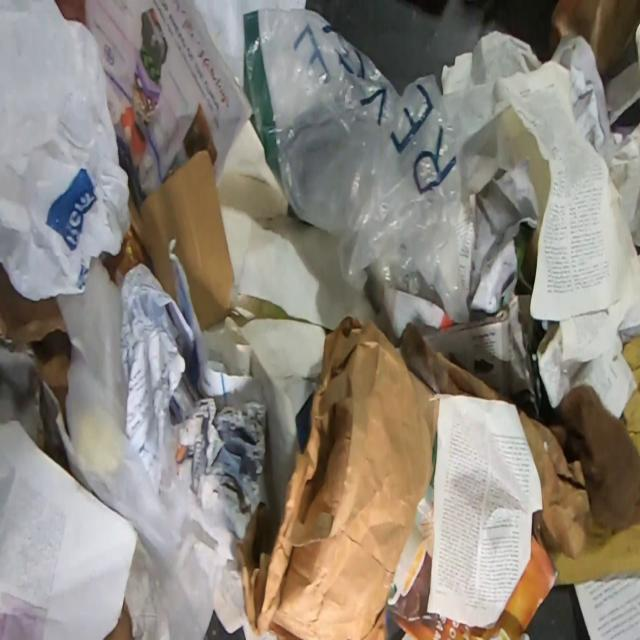cardboard: (236, 313, 512, 640), (518, 384, 640, 558), (139, 146, 235, 330), (0, 261, 70, 425), (548, 521, 640, 586), (622, 335, 640, 455)
soft_plastic: (240, 0, 468, 326), (54, 257, 190, 567)
